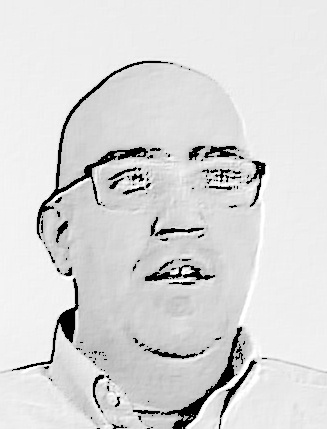nose_M_C: (148, 175, 208, 255)
